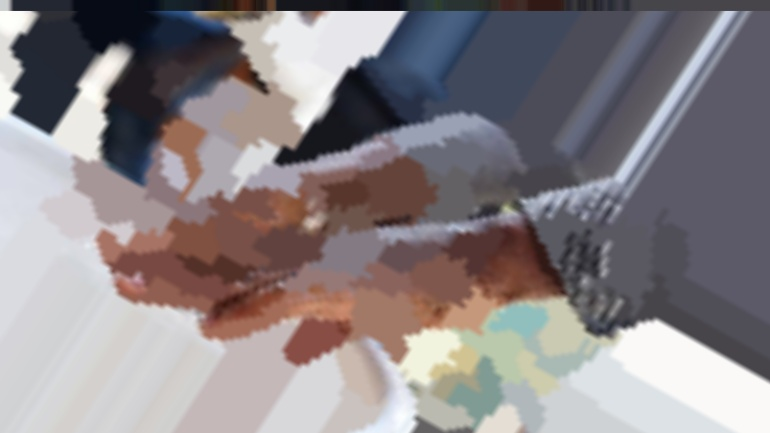washing hand: (21, 0, 636, 432)
